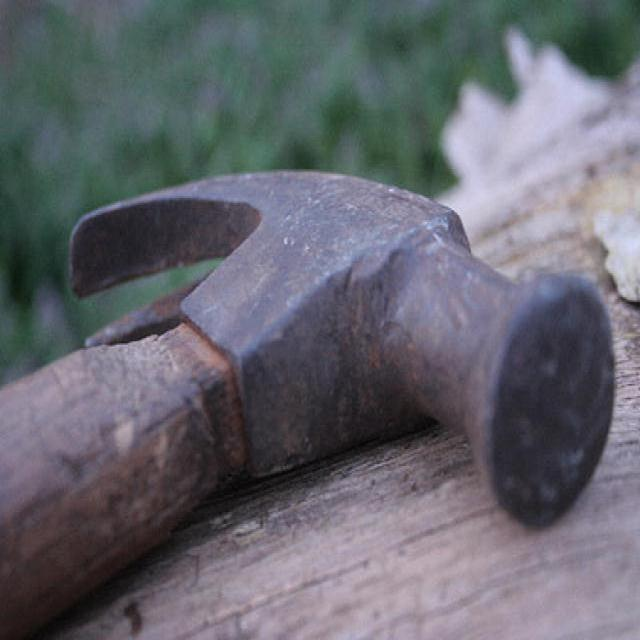hammer: (0, 156, 628, 634)
